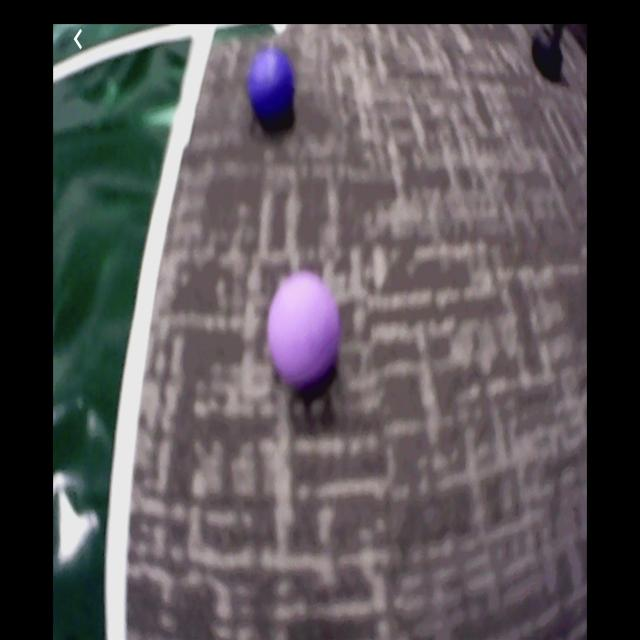ball: (267, 273, 336, 386), (247, 49, 294, 123)
